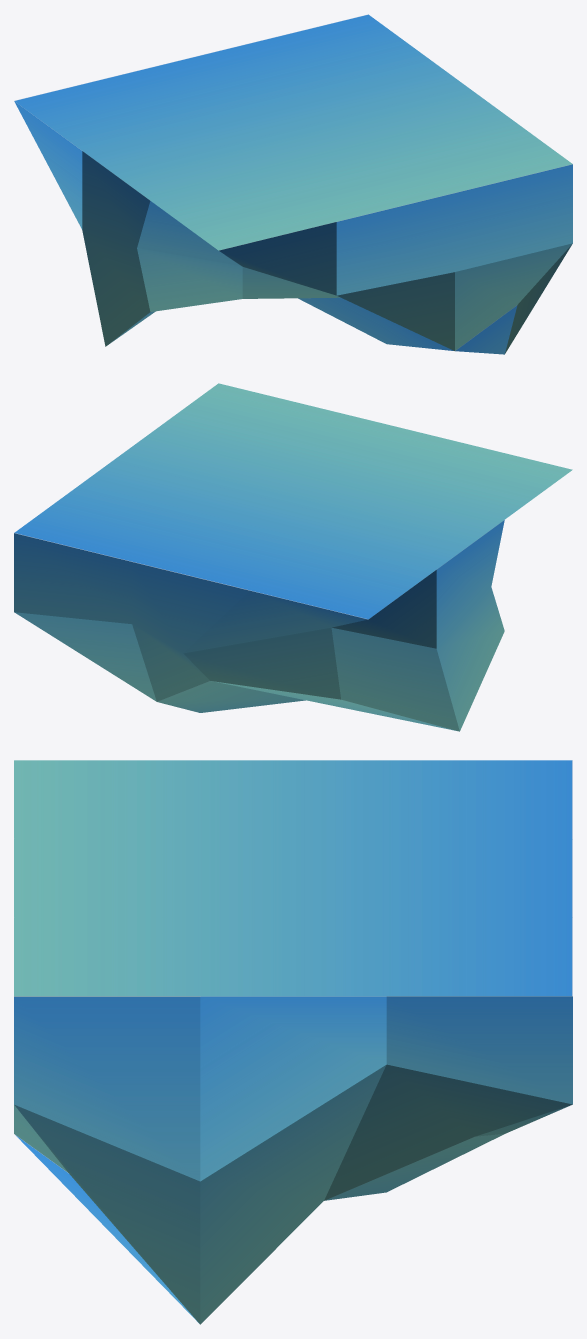
The model's file is blockNarrow02.fbx.
3 views of the same model, one above another, from view 1: azimuth 30°, elevation 25°; view 2: azimuth 150°, elevation 25°; view 3: azimuth 270°, elevation 25° (orthographic). The views are drawn at different scales.
Parts seen in each view (by area): view 1: Cube_26; view 2: Cube_26; view 3: Cube_26.
Boxes of the visible parts, <box> form: Cube_26: <box>14,14,572,354</box>; Cube_26: <box>14,383,572,731</box>; Cube_26: <box>14,760,572,1324</box>.
Bounding box in the file's own units: 225 × 130 × 200.
Materials: 1 (1 with a texture image).
